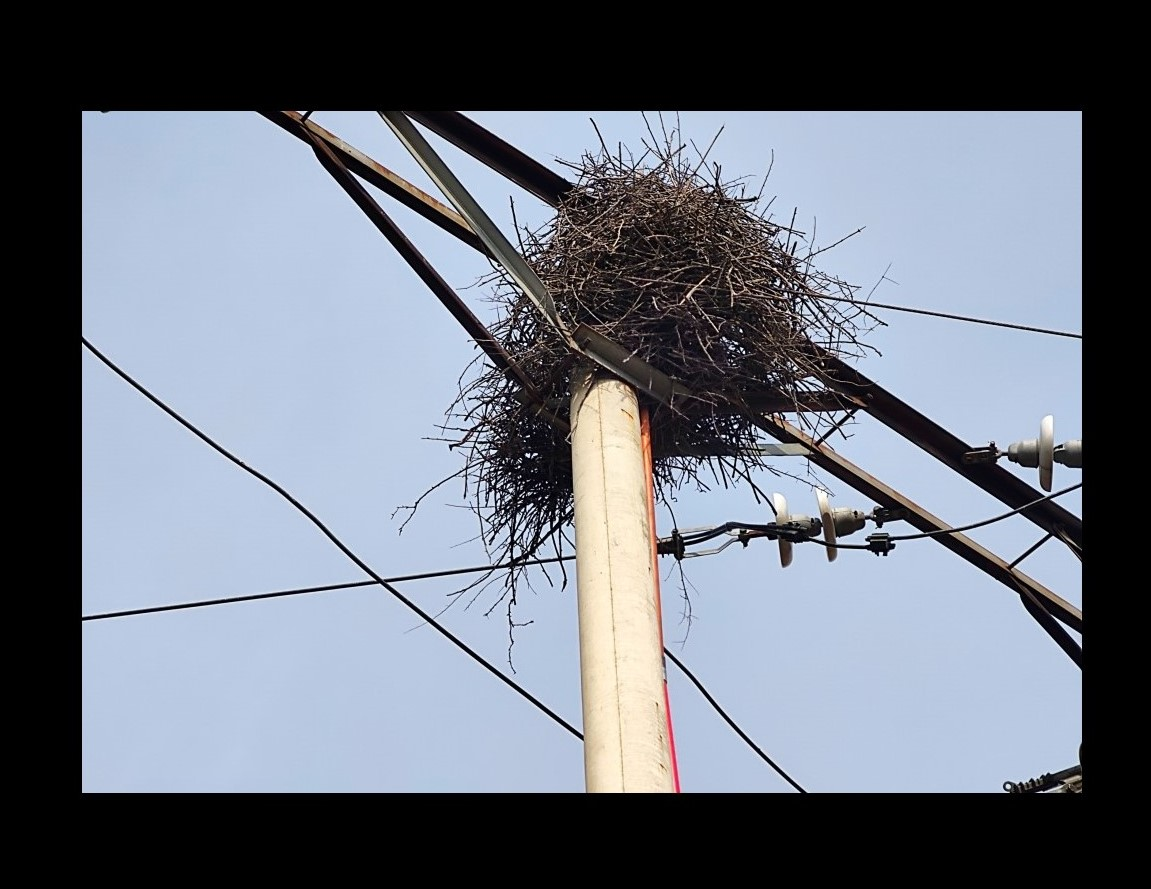niaowo: (419, 158, 845, 526)
